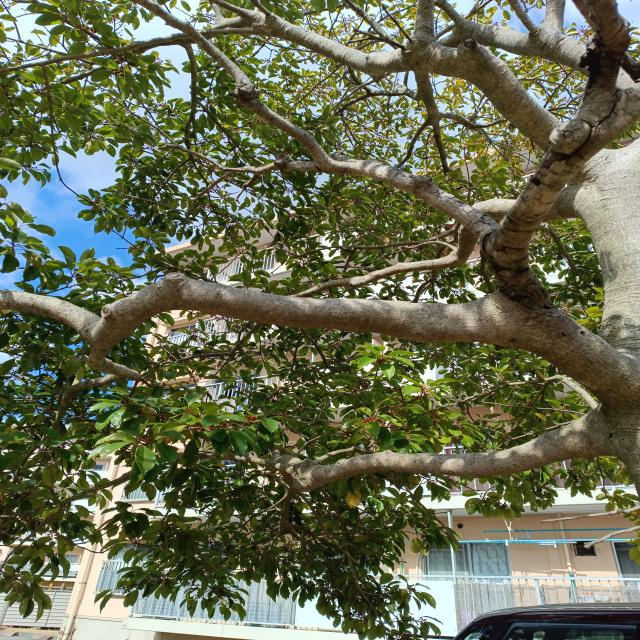Branch: (0, 274, 627, 401), (259, 16, 561, 150), (482, 80, 640, 301), (270, 405, 612, 492), (338, 159, 497, 234), (442, 21, 589, 74), (567, 0, 629, 95)
Twig: (134, 1, 340, 162), (200, 157, 317, 193), (208, 0, 260, 21)
